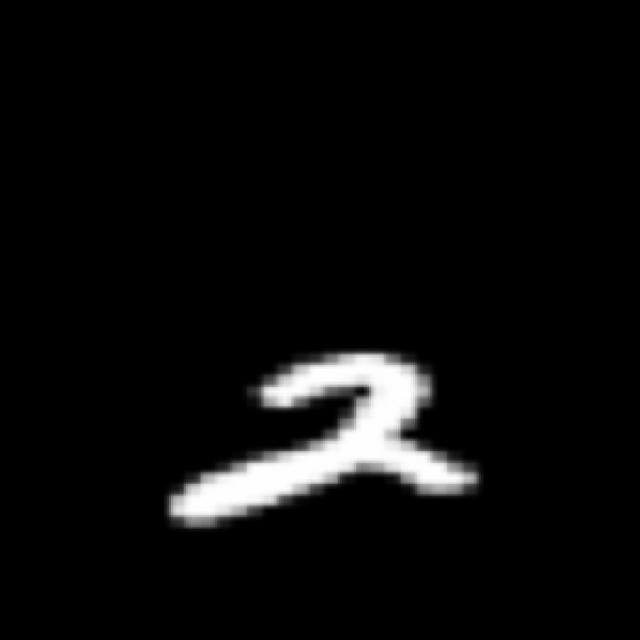two -2-: (150, 344, 490, 528)
